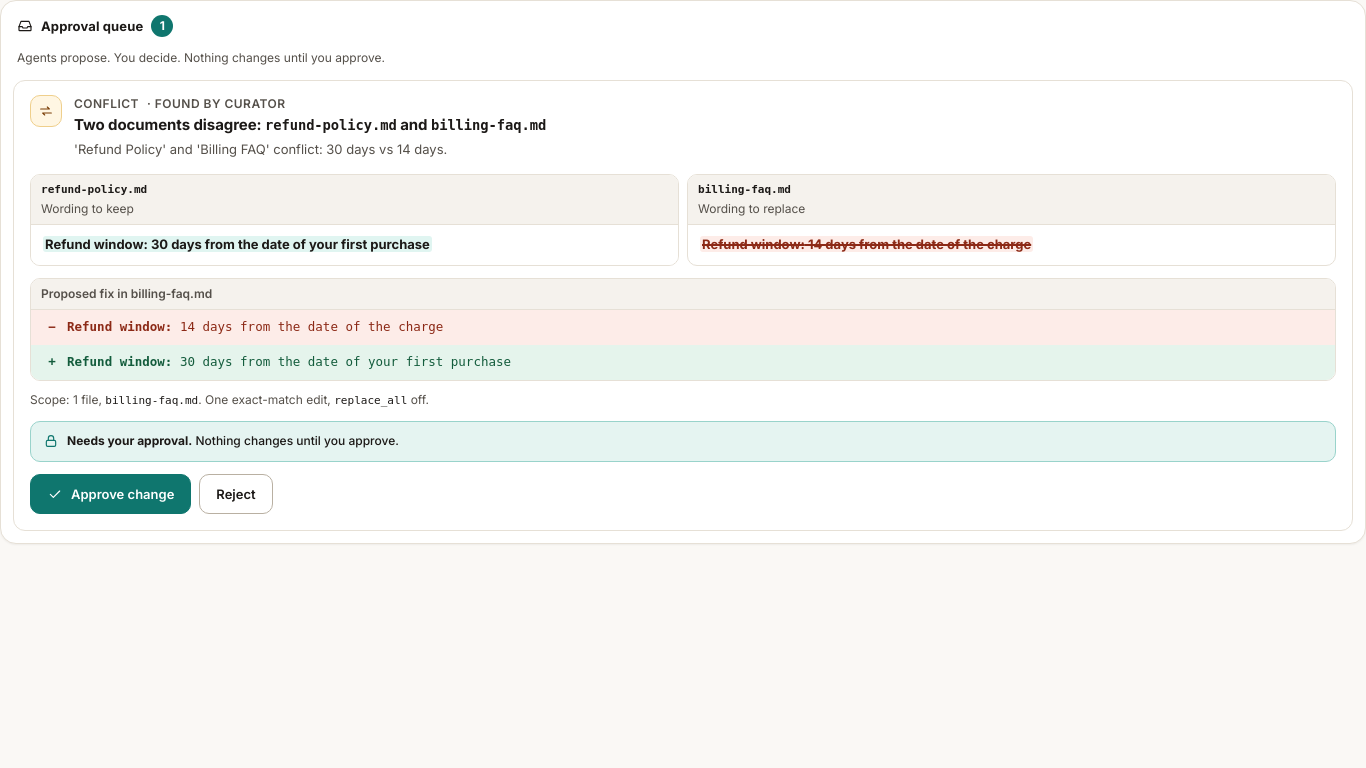
Test case: approval decisions › rejects with the reject button
The width and height of the screenshot is (1366, 768).
Click the button "Reject". click: point(236, 494)
box: [199,474,273,514]
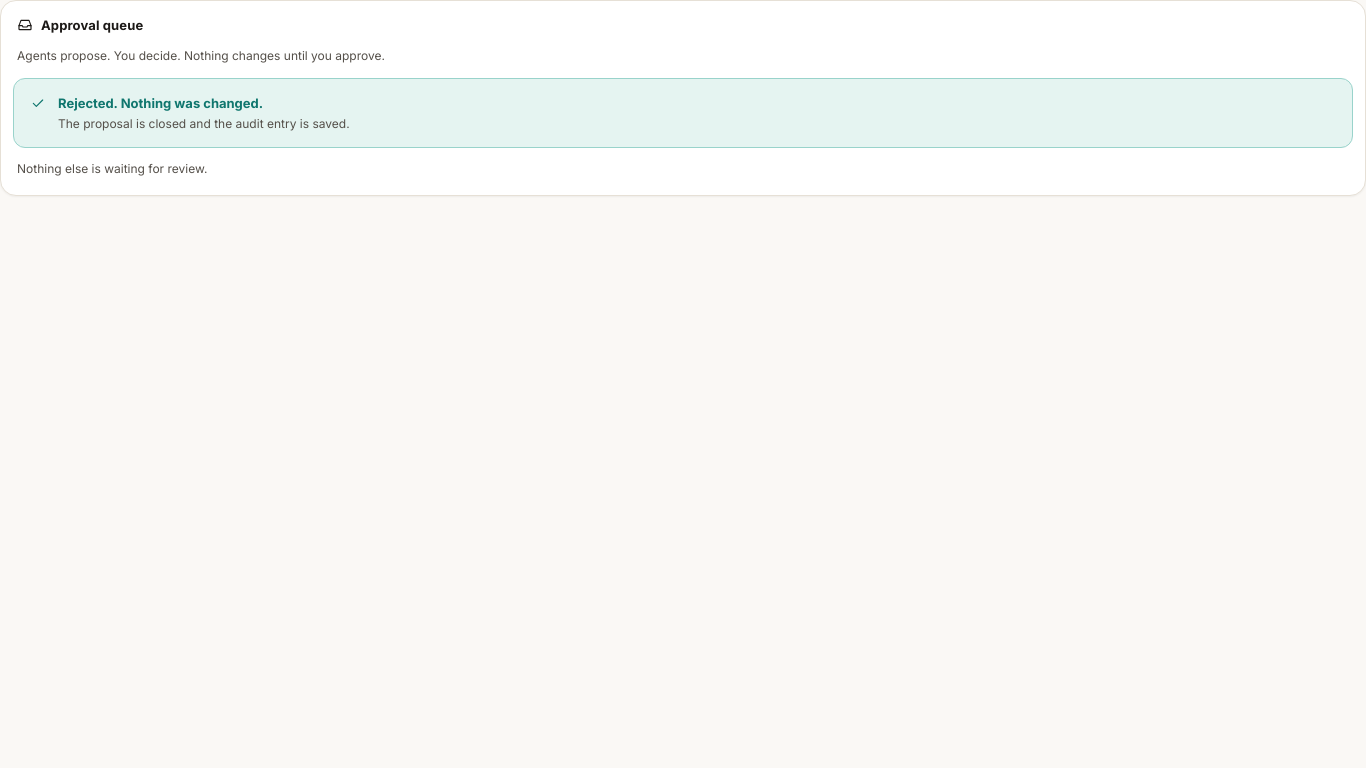
Expected: the text "Rejected. Nothing was changed." is shown, [58,95,263,111]
